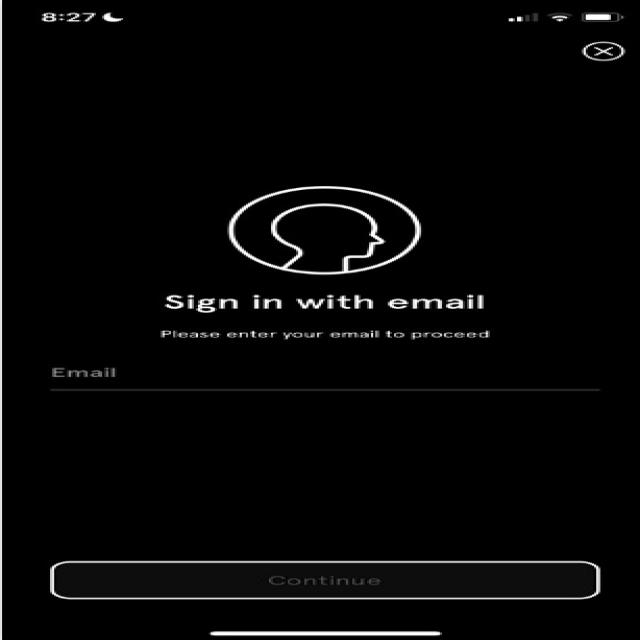button: (19, 546, 618, 613)
icon button: (563, 28, 640, 83)
image: (84, 178, 566, 344)
input: (16, 348, 618, 408)
spacer: (60, 417, 561, 536)
